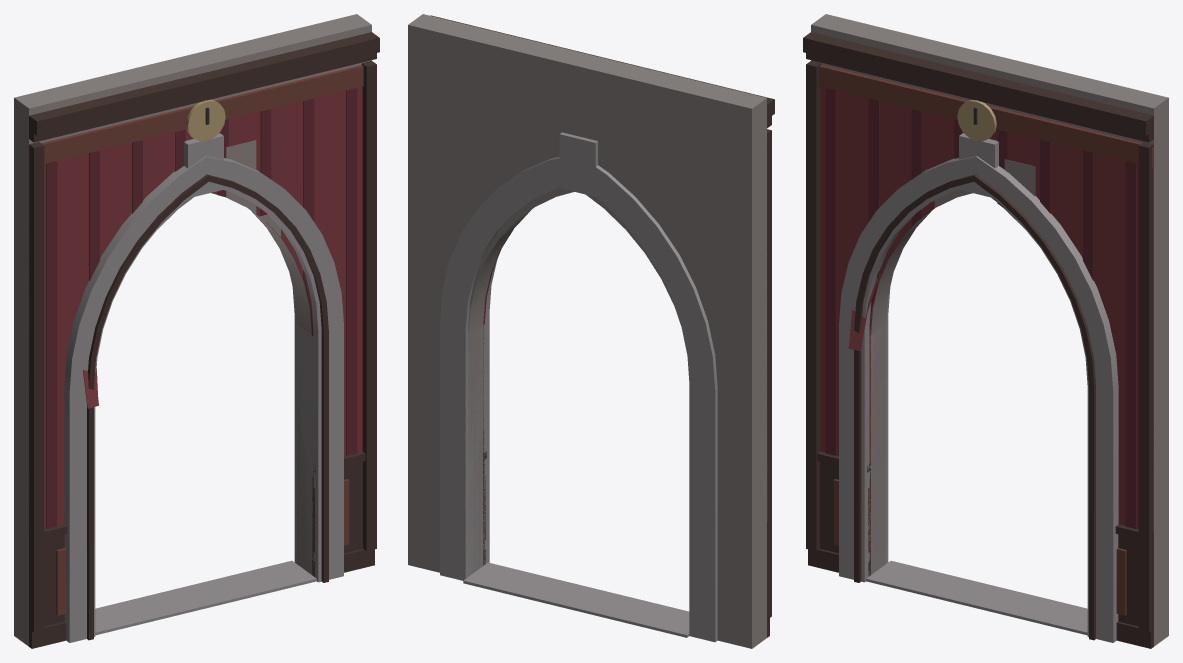
File: doorway.glb
3 renders of one model, left to right at view 1: azimuth 30°, elevation 25°; view 2: azimuth 150°, elevation 25°; view 3: azimuth 330°, elevation 25°, orthographic.
Parts seen in each view (by area): view 1: Doorway; view 2: Doorway; view 3: Doorway.
Part boxes in pixels (x1,y1,x2,y2): Doorway: (14,14,379,648); Doorway: (408,14,774,648); Doorway: (803,14,1168,648).
Size of the model in its own units: 4 by 6 by 0.6151.
